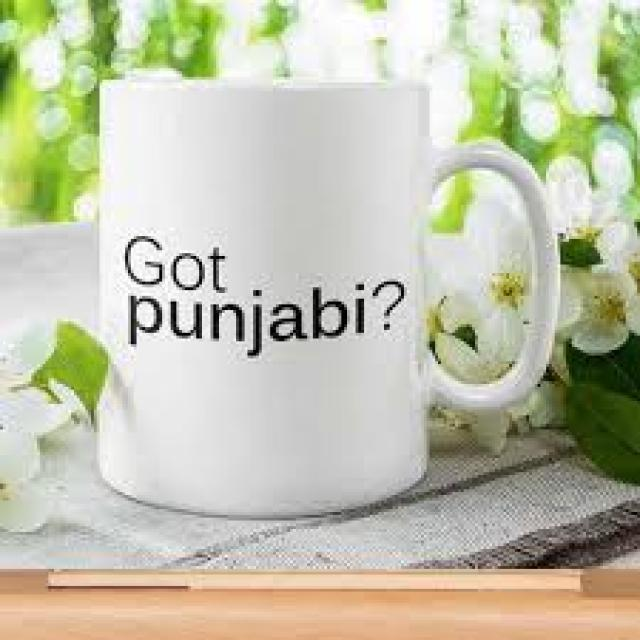taza: (78, 44, 568, 529)
